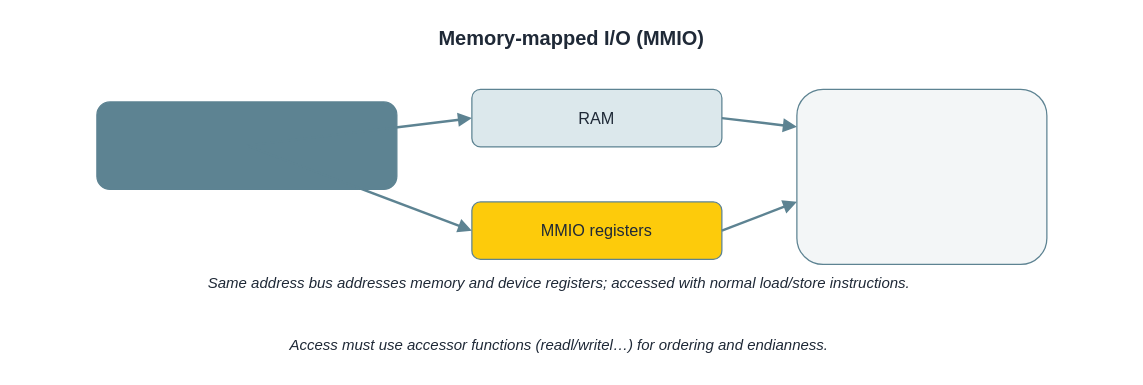
Some shapes in this 1143 by 385 pixel diagram are drawn without their labels. The box of each missing label's shape, as (x1, y1, x2, y2) in pixels:
CPU: (96, 101, 397, 189)
Physical memory address space (one address bus): (796, 88, 1047, 264)
